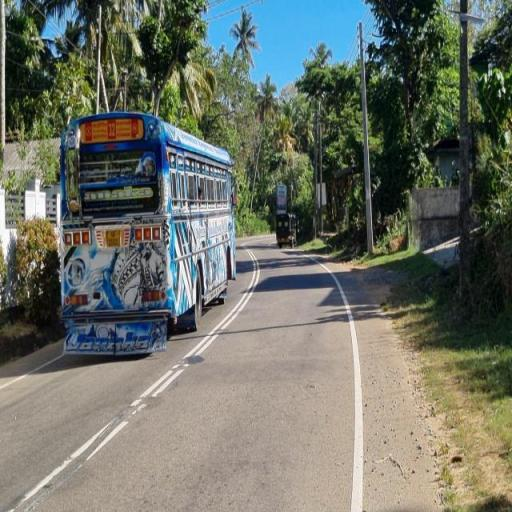double_white_line: (130, 249, 260, 416)
